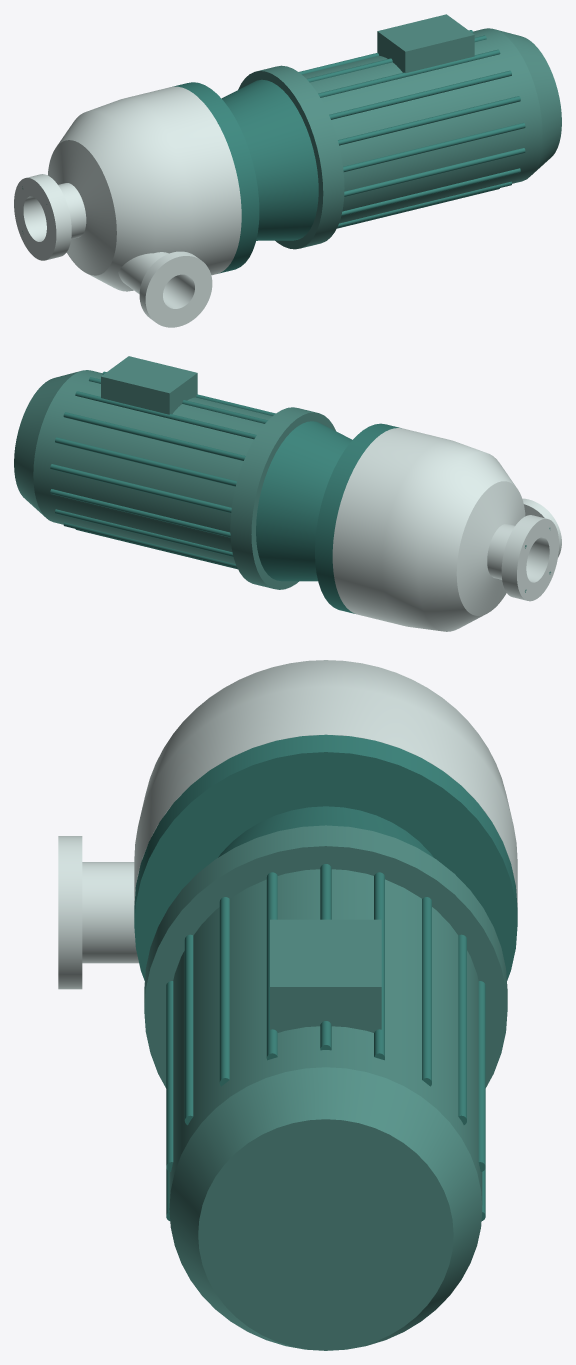
3 renders of one model, top to bottom at view 1: azimuth 30°, elevation 25°; view 2: azimuth 150°, elevation 25°; view 3: azimuth 270°, elevation 25°, orthographic. The views are drawn at different scales.
Visible parts, largest first — view 1: 泵体_圆弧壳与轴向进液口, 电机_带筋机壳, 连接座_短连接段, 电机_连接法兰, 电机_接线盒, 接口_朝上出液法兰, 连接座_泵壳连接环, 电机_圆弧尾罩, 接口_偏置竖向出液管, 电机_散热筋04, 电机_散热筋05, 电机_散热筋03 (+5 smaller); view 2: 泵体_圆弧壳与轴向进液口, 电机_带筋机壳, 连接座_短连接段, 电机_连接法兰, 电机_接线盒, 连接座_泵壳连接环, 电机_圆弧尾罩, 电机_散热筋16, 电机_散热筋15, 电机_散热筋17, 电机_散热筋14, 电机_散热筋18 (+4 smaller); view 3: 电机_圆弧尾罩, 电机_带筋机壳, 连接座_泵壳连接环, 泵体_圆弧壳与轴向进液口, 电机_连接法兰, 电机_接线盒, 接口_偏置竖向出液管, 接口_朝上出液法兰, 连接座_短连接段, 电机_散热筋03, 电机_散热筋04, 电机_散热筋17 (+6 smaller).
Boxes of the visible parts, x1,y1,x2,y2 form: 泵体_圆弧壳与轴向进液口: [14, 86, 241, 291]; 电机_带筋机壳: [302, 28, 542, 223]; 连接座_短连接段: [221, 79, 318, 240]; 电机_连接法兰: [238, 65, 344, 249]; 电机_接线盒: [377, 14, 474, 73]; 接口_朝上出液法兰: [139, 251, 212, 327]; 连接座_泵壳连接环: [172, 82, 259, 273]; 电机_圆弧尾罩: [495, 29, 561, 174]; 接口_偏置竖向出液管: [118, 252, 188, 304]; 电机_散热筋04: [338, 96, 520, 145]; 电机_散热筋05: [343, 122, 525, 171]; 电机_散热筋03: [329, 70, 511, 119]; 泵体_圆弧壳与轴向进液口: [332, 428, 558, 631]; 电机_带筋机壳: [33, 370, 272, 564]; 连接座_短连接段: [256, 421, 352, 581]; 电机_连接法兰: [230, 407, 335, 589]; 电机_接线盒: [101, 356, 197, 414]; 连接座_泵壳连接环: [315, 423, 401, 613]; 电机_圆弧尾罩: [14, 371, 80, 516]; 电机_散热筋16: [55, 437, 236, 486]; 电机_散热筋15: [50, 464, 231, 512]; 电机_散热筋17: [63, 412, 245, 460]; 电机_散热筋14: [50, 489, 230, 537]; 电机_散热筋18: [75, 391, 256, 439]; 电机_圆弧尾罩: [169, 1067, 482, 1350]; 电机_带筋机壳: [169, 869, 482, 1207]; 连接座_泵壳连接环: [134, 734, 517, 980]; 泵体_圆弧壳与轴向进液口: [134, 660, 517, 906]; 电机_连接法兰: [144, 825, 507, 1088]; 电机_接线盒: [270, 919, 381, 1032]; 接口_偏置竖向出液管: [82, 862, 138, 963]; 接口_朝上出液法兰: [58, 836, 82, 989]; 连接座_短连接段: [218, 806, 433, 857]; 电机_散热筋03: [219, 897, 229, 1086]; 电机_散热筋04: [184, 934, 193, 1125]; 电机_散热筋17: [422, 897, 431, 1086].
Bounding box in the file's own units: 1.48 × 0.5096 × 0.598.
